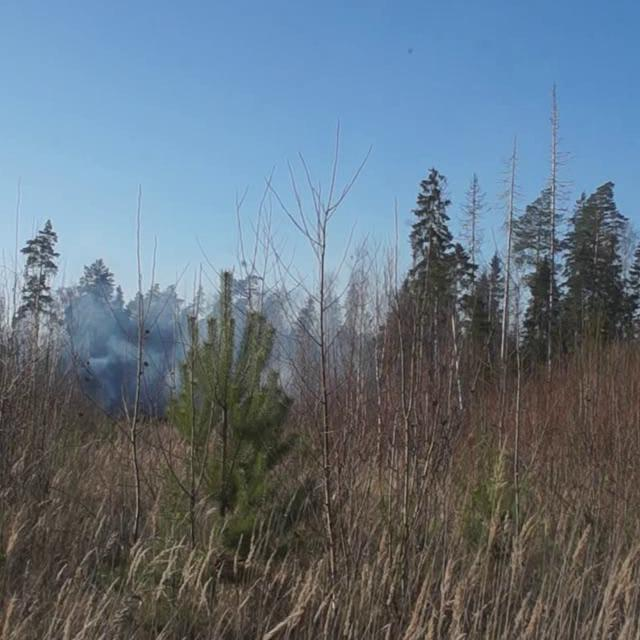Smoke: (61, 286, 334, 418)
